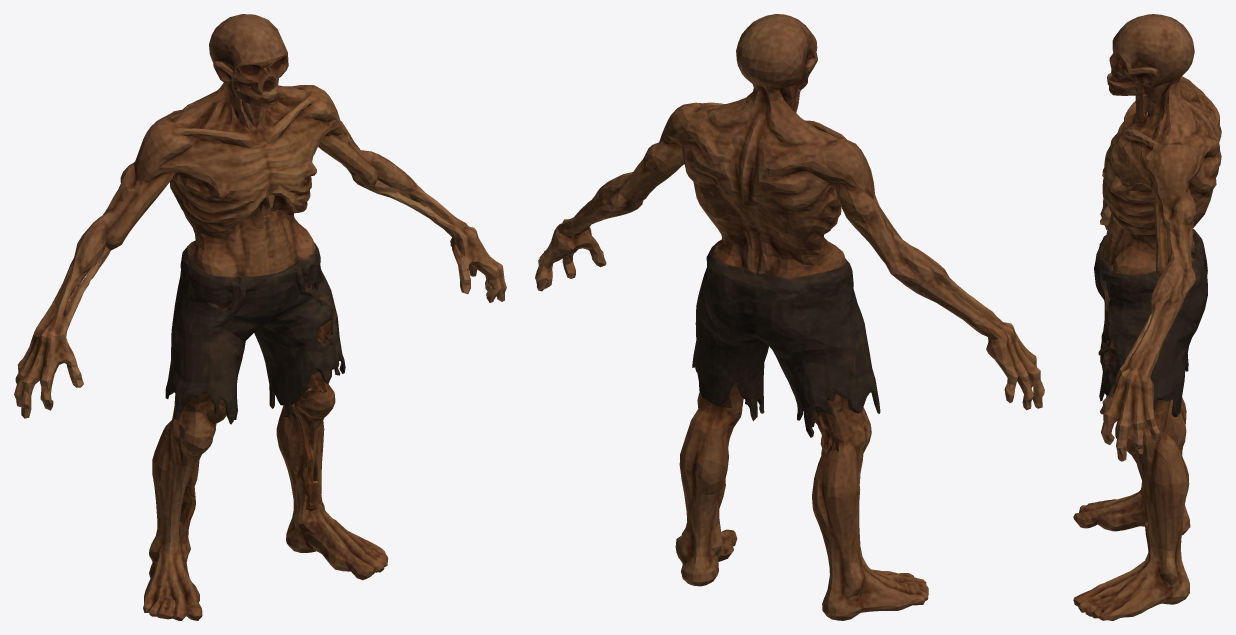
File: zombie-raw.glb
3 renders of one model, left to right at view 1: azimuth 30°, elevation 25°; view 2: azimuth 150°, elevation 25°; view 3: azimuth 270°, elevation 25°, orthographic. The views are drawn at different scales.
Parts seen in each view (by area): view 1: geometry_0; view 2: geometry_0; view 3: geometry_0.
Boxes of the visible parts, bbox=[...] form: geometry_0: bbox=[14, 14, 506, 620]; geometry_0: bbox=[535, 14, 1044, 620]; geometry_0: bbox=[1073, 14, 1221, 620].
Bounding box in the file's own units: 0.9172 × 1 × 0.2449.
1 material, 1 textured.
